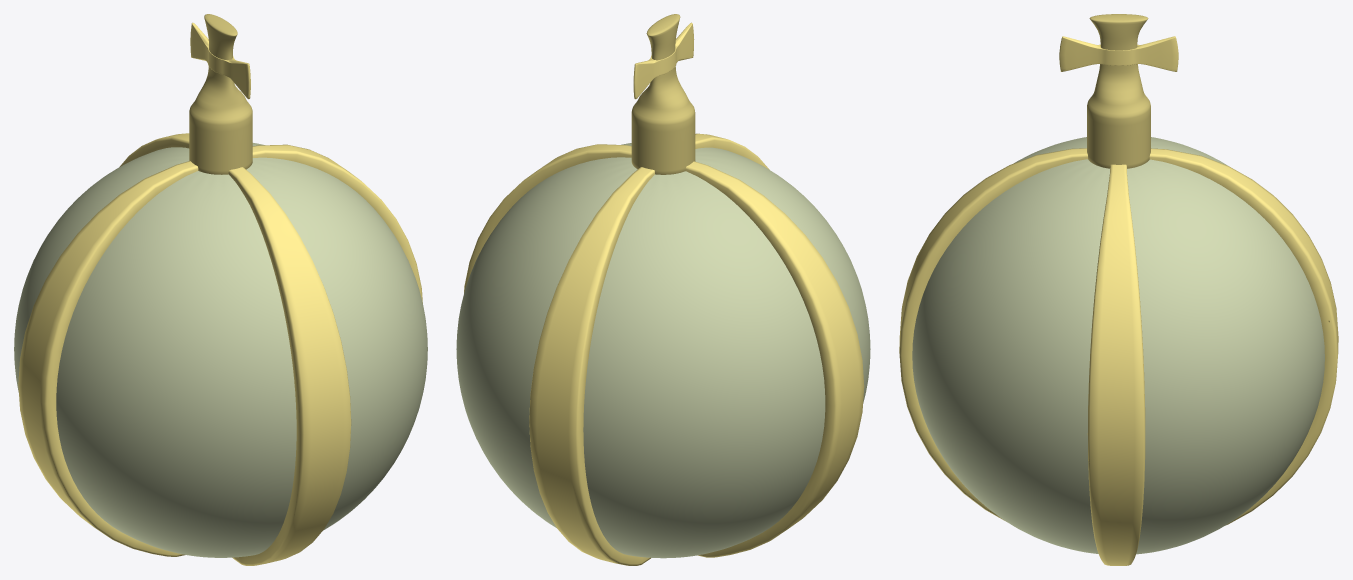
File: agua benta.fbx
3 views of the same model, side by side, from view 1: azimuth 30°, elevation 25°; view 2: azimuth 150°, elevation 25°; view 3: azimuth 270°, elevation 25° (orthographic).
Visible parts, largest first — view 1: Sphere, Sphere.001, Cylinder, Cylinder.001; view 2: Sphere, Sphere.001, Cylinder, Cylinder.001; view 3: Sphere, Sphere.001, Cylinder, Cylinder.001.
Part boxes in pixels (bbox=[...]): Sphere: bbox=[14, 143, 427, 557]; Sphere.001: bbox=[18, 133, 422, 565]; Cylinder: bbox=[189, 14, 252, 174]; Cylinder.001: bbox=[190, 22, 250, 99]; Sphere: bbox=[456, 143, 870, 558]; Sphere.001: bbox=[464, 133, 864, 565]; Cylinder: bbox=[631, 14, 695, 174]; Cylinder.001: bbox=[633, 22, 694, 99]; Sphere: bbox=[912, 137, 1324, 554]; Sphere.001: bbox=[899, 148, 1338, 565]; Cylinder: bbox=[1087, 14, 1150, 168]; Cylinder.001: bbox=[1059, 36, 1178, 71].
Bounding box in the file's own units: 206 × 271 × 206.
4 materials, 4 textured.
